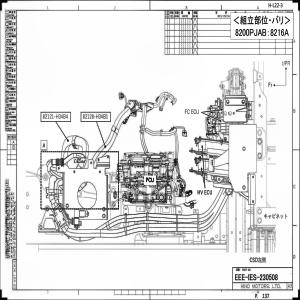PartNumber: (83, 113, 108, 120), (42, 113, 69, 119)
